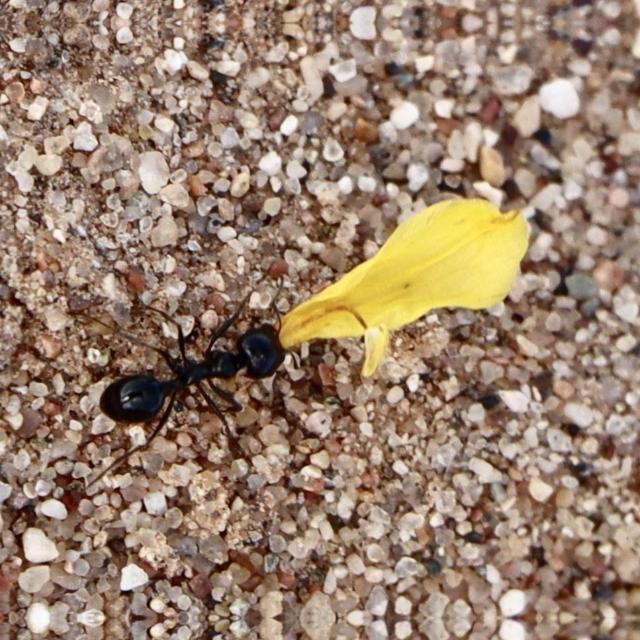Messor: (49, 296, 310, 430)
